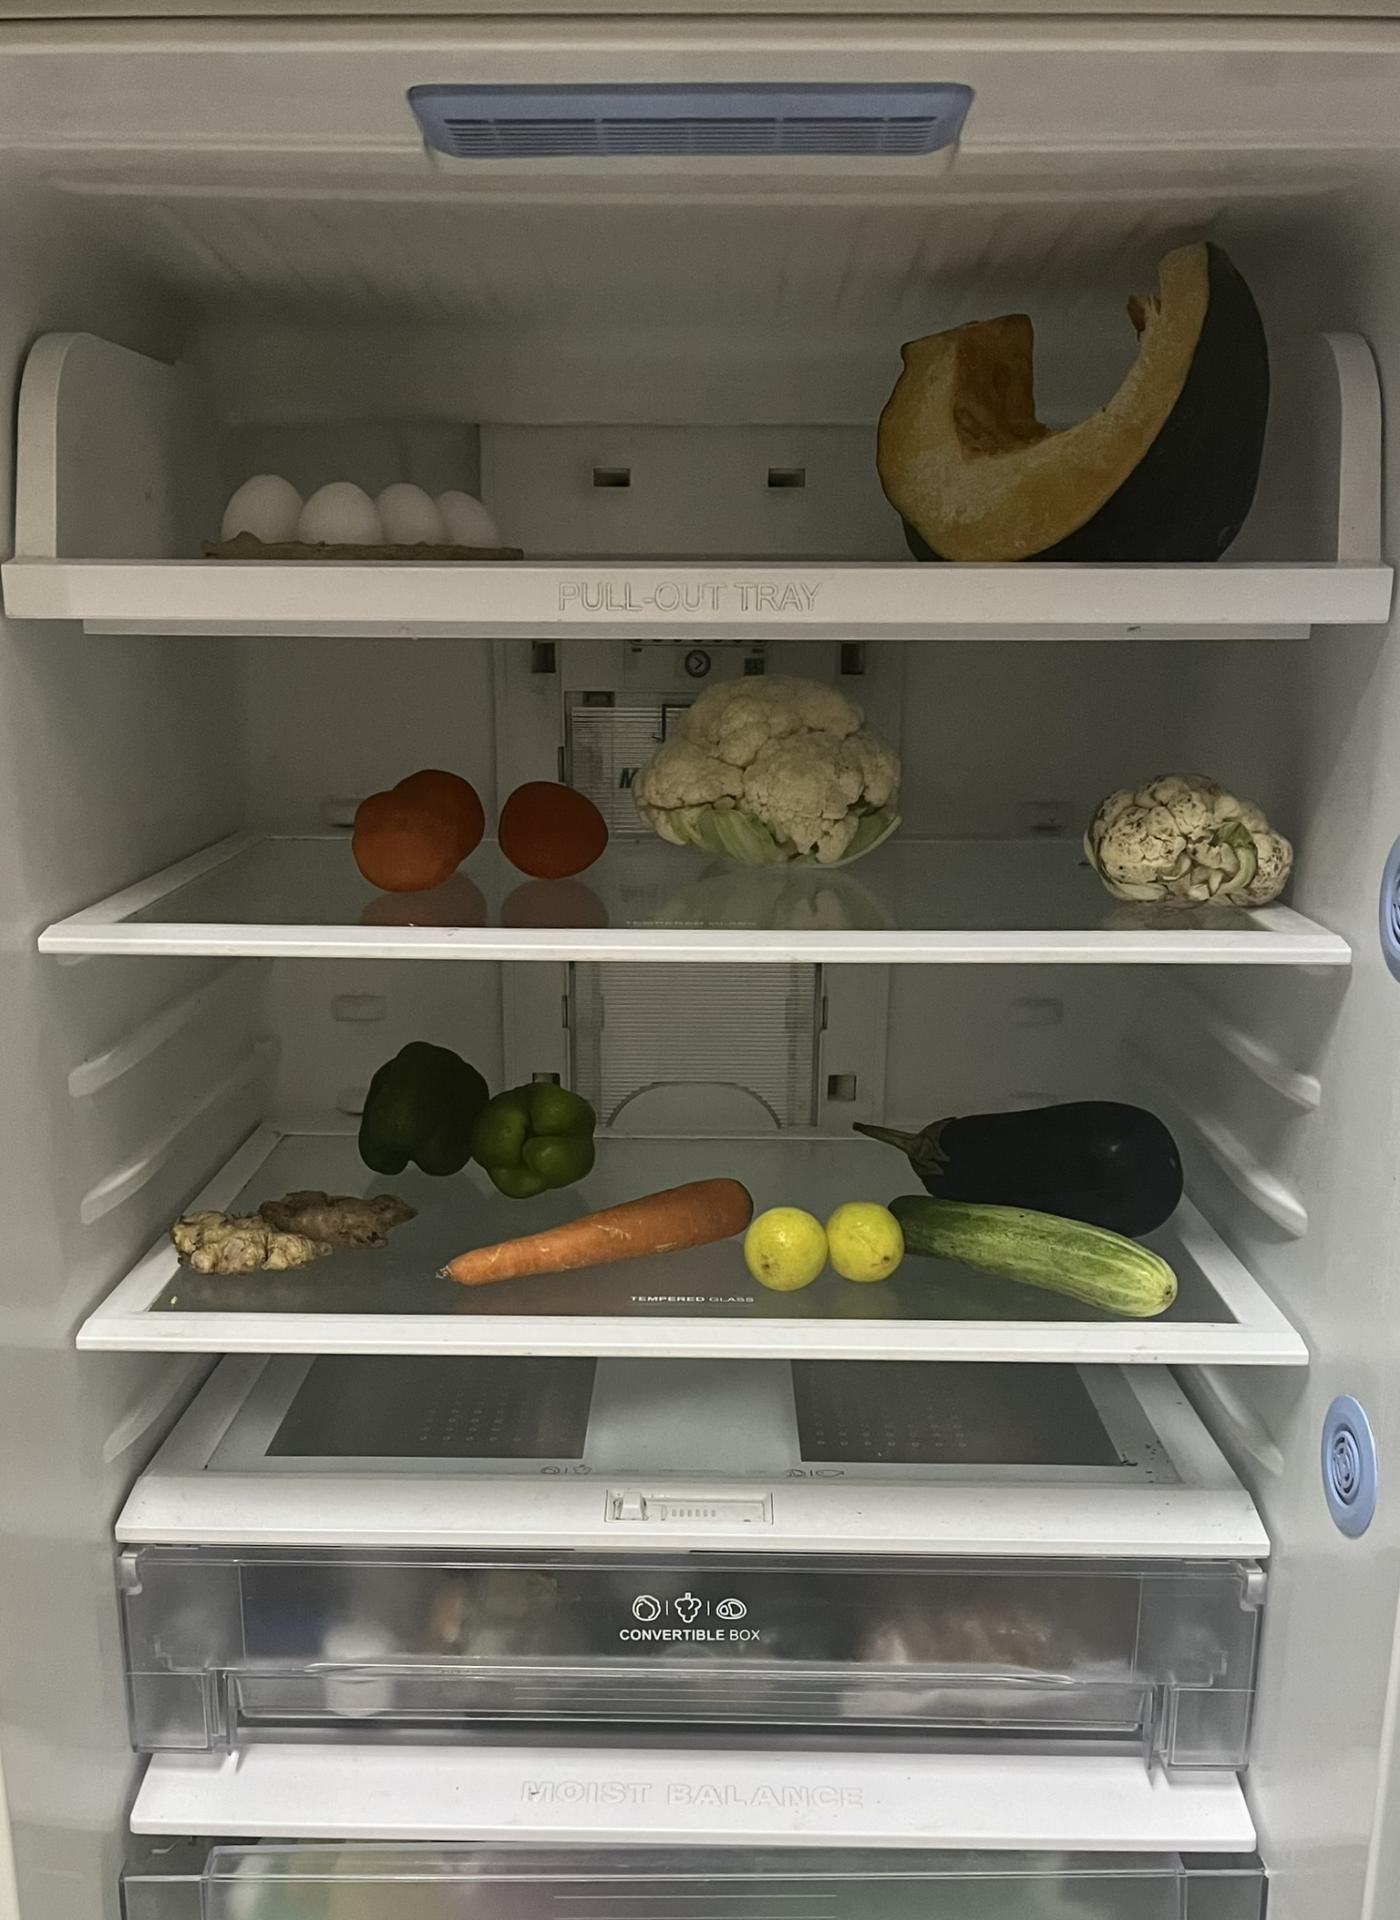brinjal: (845, 1105, 1185, 1231)
capsicum: (355, 1039, 596, 1196)
carrots: (438, 1175, 765, 1289)
cauliflower: (635, 669, 902, 859), (1090, 772, 1299, 906)
cucumber: (883, 1201, 1176, 1321)
egg: (218, 471, 489, 553)
ginger: (171, 1184, 410, 1283)
lemon: (747, 1199, 906, 1294)
pumpkin: (874, 243, 1273, 571)
tomato: (355, 765, 491, 893), (495, 780, 604, 885)
